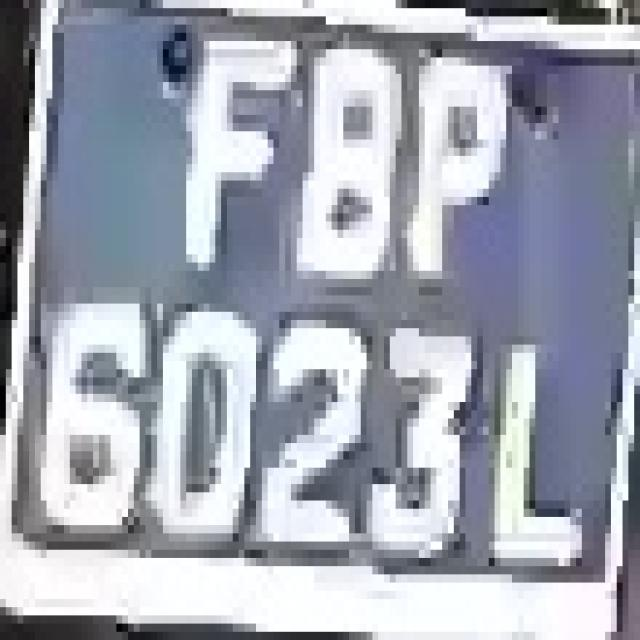0: (140, 296, 274, 534)
2: (256, 296, 372, 582)
3: (355, 279, 471, 558)
6: (29, 254, 146, 558)
B: (285, 49, 413, 320)
F: (151, 8, 291, 287)
L: (488, 304, 616, 574)
P: (389, 24, 524, 304)
